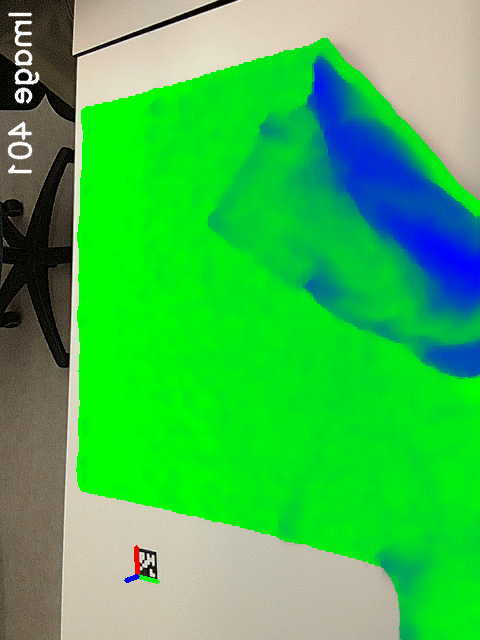V: (200, 195, 264, 250)
